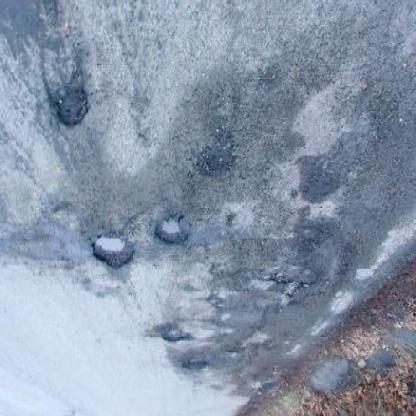pothole: (300, 158, 340, 205), (91, 237, 137, 274), (198, 145, 240, 180), (56, 90, 92, 130), (154, 215, 190, 252), (299, 224, 334, 255), (163, 330, 196, 346), (183, 357, 211, 374), (273, 271, 290, 287), (286, 284, 302, 300)
